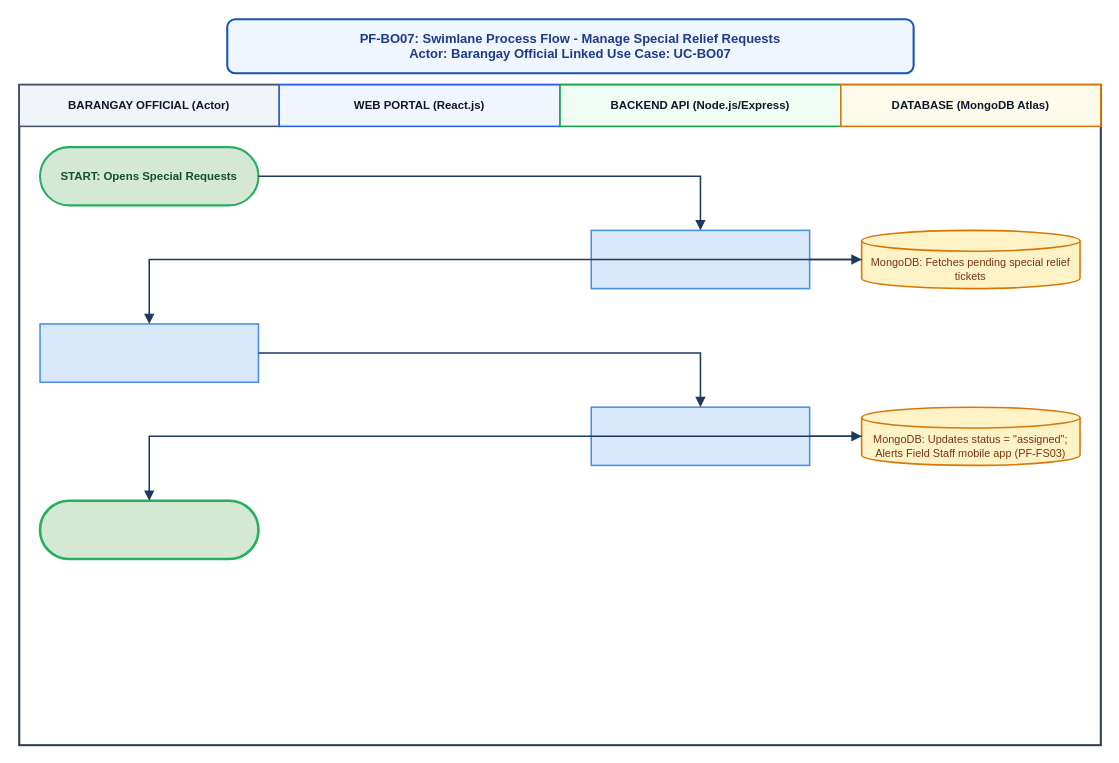
Some shapes in this 1119 by 763 pixel diagram are drawn without their labels. Each missing label, with the box of its shape:
END: Task assigned for delivery: (38, 499, 259, 560)
GET /api/assistance-requests (scoped to barangay): (590, 229, 810, 289)
PATCH /api/assistance-requests/:id/assign { staffId }: (590, 406, 810, 466)
Selects ticket & assigns available Field Staff Officer: (39, 323, 259, 383)
